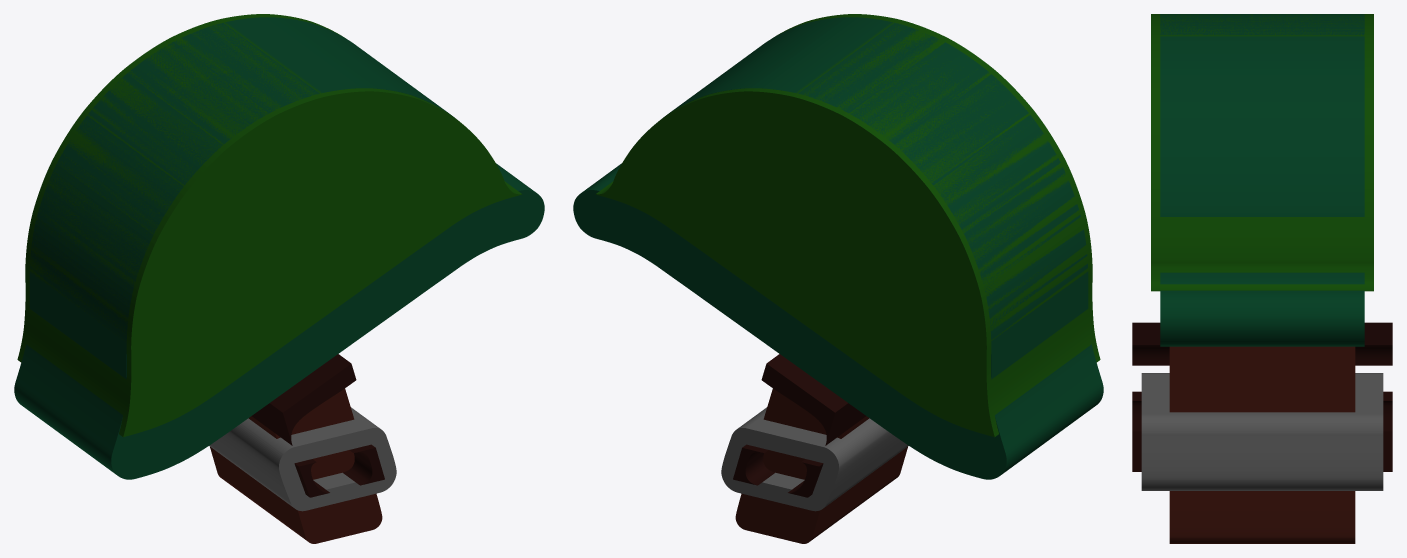
3 renders of one model, left to right at view 1: azimuth 30°, elevation 25°; view 2: azimuth 150°, elevation 25°; view 3: azimuth 270°, elevation 25°, orthographic. The views are drawn at different scales.
Parts seen in each view (by area): view 1: U+1FA96_layer02_obj00, U+1FA96_layer01_obj00, U+1FA96_layer03_obj00, U+1FA96_layer00_obj00, U+1FA96_layer04_obj00; view 2: U+1FA96_layer02_obj00, U+1FA96_layer01_obj00, U+1FA96_layer03_obj00, U+1FA96_layer00_obj00, U+1FA96_layer04_obj00; view 3: U+1FA96_layer01_obj00, U+1FA96_layer00_obj00, U+1FA96_layer03_obj00, U+1FA96_layer02_obj00, U+1FA96_layer04_obj00.
Boxes of the visible parts, x1,y1,x2,y2 form: U+1FA96_layer02_obj00: (17,14,522,437); U+1FA96_layer01_obj00: (14,17,544,479); U+1FA96_layer03_obj00: (209,407,396,511); U+1FA96_layer00_obj00: (210,388,382,543); U+1FA96_layer04_obj00: (252,354,384,497); U+1FA96_layer02_obj00: (595,14,1100,437); U+1FA96_layer01_obj00: (573,17,1103,479); U+1FA96_layer03_obj00: (721,407,908,511); U+1FA96_layer00_obj00: (735,388,907,543); U+1FA96_layer04_obj00: (733,354,865,497); U+1FA96_layer01_obj00: (1160,14,1364,346); U+1FA96_layer00_obj00: (1169,346,1355,543); U+1FA96_layer03_obj00: (1141,373,1383,490); U+1FA96_layer02_obj00: (1151,14,1373,291); U+1FA96_layer04_obj00: (1132,322,1392,471).
Size of the model in its own units: 0.5678 by 0.5677 by 0.28.
